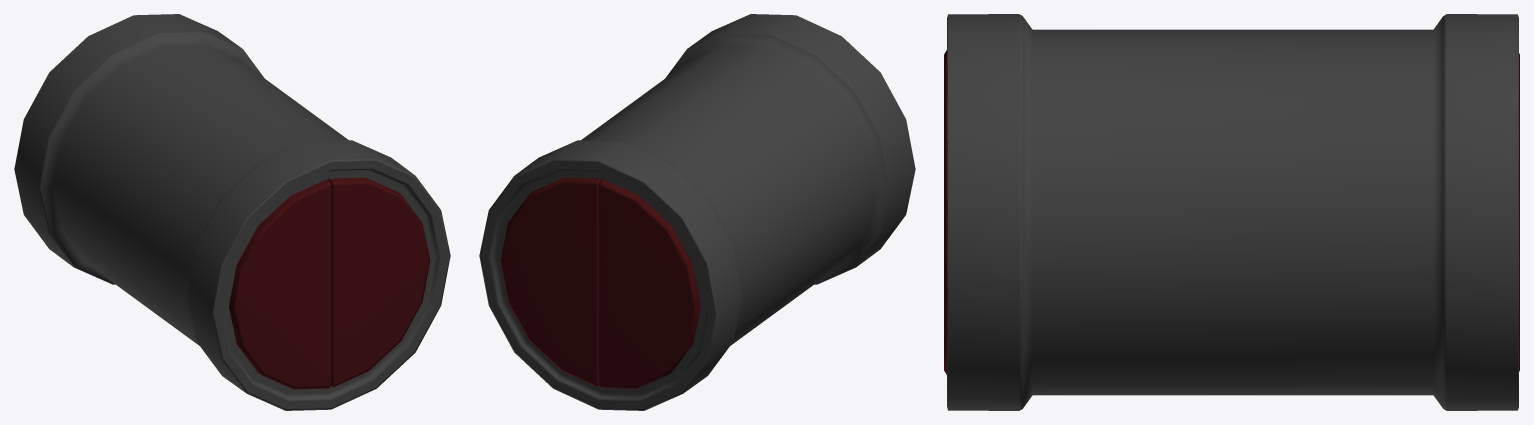
Rendered from colony_Section_door.glb.
3 views of the same model, side by side, from view 1: azimuth 30°, elevation 25°; view 2: azimuth 150°, elevation 25°; view 3: azimuth 270°, elevation 25° (orthographic). The views are drawn at different scales.
Visible parts, largest first — view 1: Section_door; view 2: Section_door; view 3: Section_door.
Boxes of the visible parts, <box> form: Section_door: <box>14,14,450,410</box>; Section_door: <box>479,14,915,410</box>; Section_door: <box>944,14,1519,410</box>.
Bounding box in the file's own units: 276 × 276 × 398.
1 material, 1 textured.
